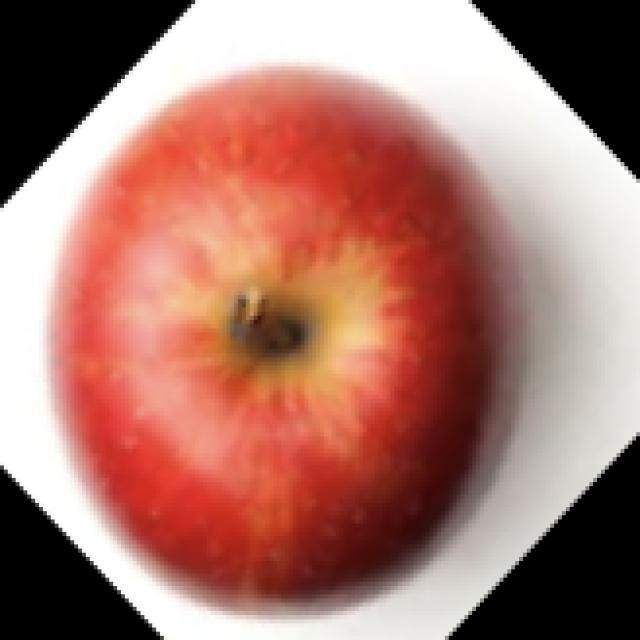Apple: (48, 62, 498, 598)
